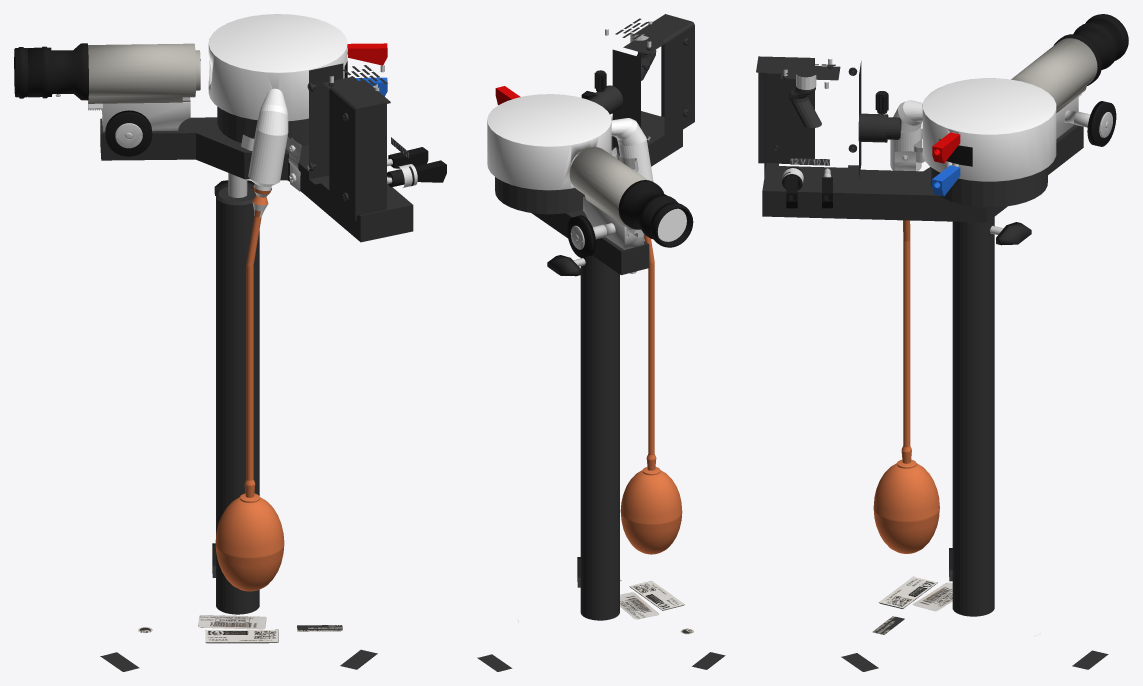
Rendered from MillikanFull.glb.
3 renders of one model, left to right at view 1: azimuth 30°, elevation 25°; view 2: azimuth 150°, elevation 25°; view 3: azimuth 270°, elevation 25°, orthographic. The views are drawn at different scales.
Visible parts, largest first — view 1: MillikanFull; view 2: MillikanFull; view 3: MillikanFull.
Boxes of the visible parts, x1,y1,x2,y2 form: MillikanFull: (14, 14, 446, 671); MillikanFull: (477, 14, 725, 671); MillikanFull: (756, 14, 1128, 671).
Size of the model in its own units: 0.2334 by 0.4565 by 0.264.
20 materials, 5 textured.
